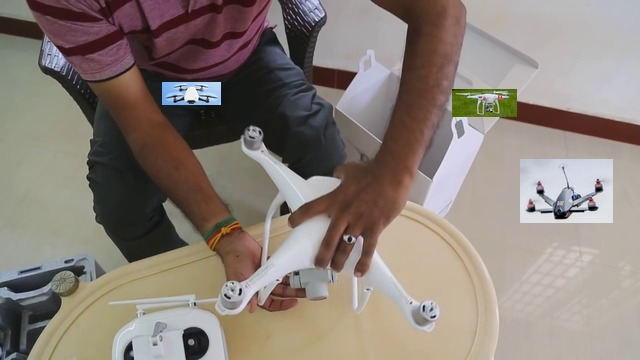drone: (214, 125, 442, 333), (520, 159, 613, 223), (452, 89, 517, 117), (162, 82, 221, 105)
